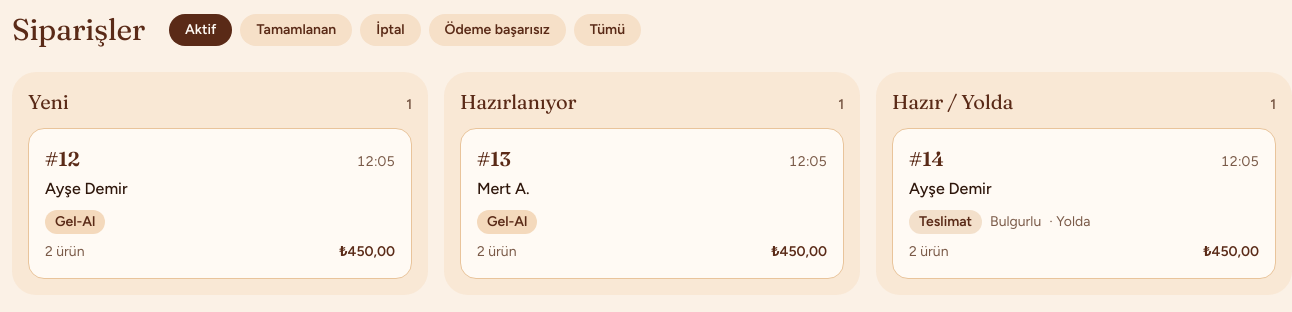
Test case: AdminOrdersPage › switches the filter
Expected: the element "Yeni" is shown, [12,72,428,295]
Click the button "Tamamlanan": [296, 30] box [240,14,352,46]
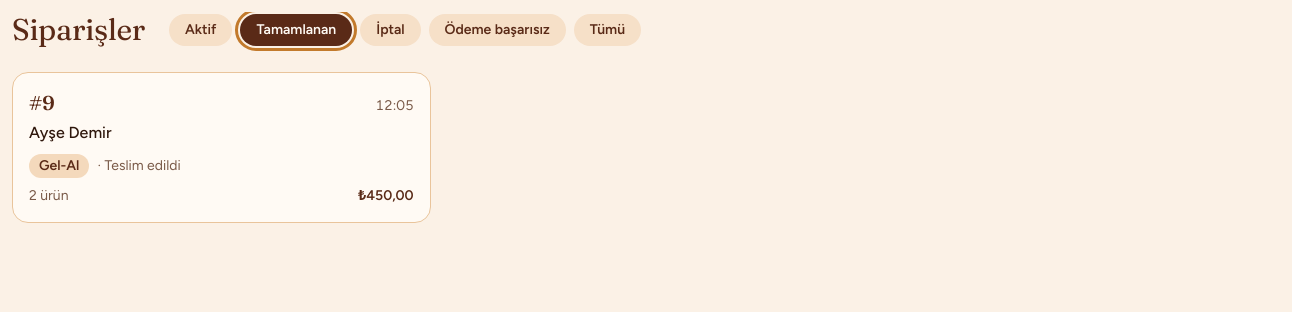
Expected: the link "#9 12:05 Ayşe Demir Gel-Al · Teslim edildi 2 ürün ₺450,00" is shown, [12,72,431,223]
